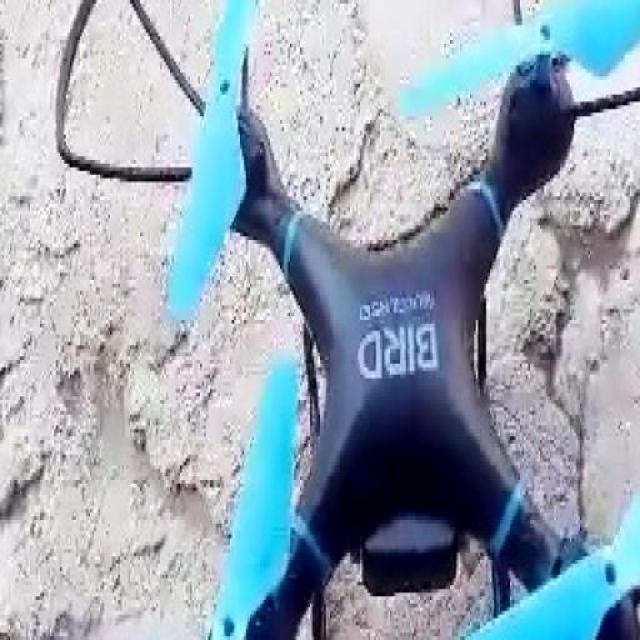bird: (26, 0, 640, 640)
